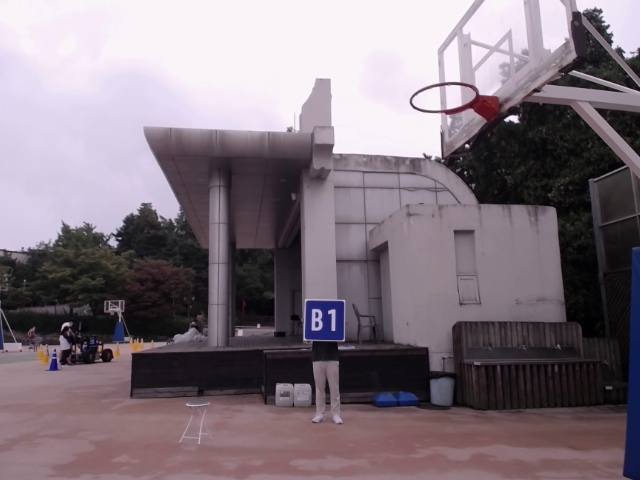delivery_b1: (305, 299, 345, 341)
